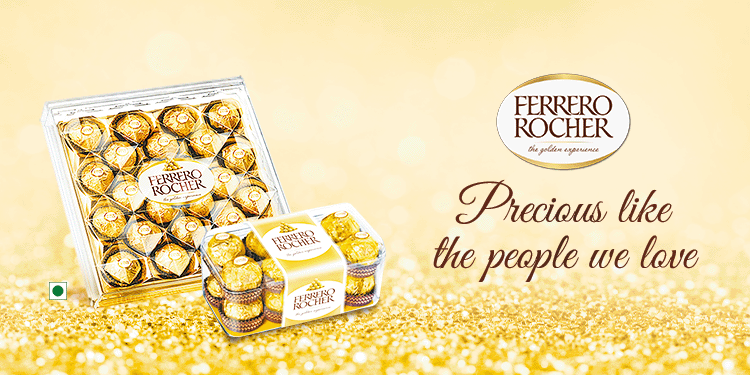veg: (45, 280, 73, 304)
